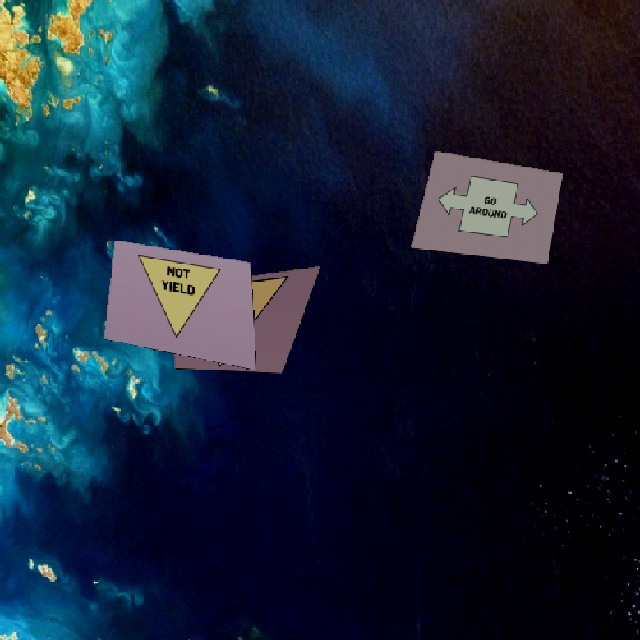GO_AROUND: (430, 169, 542, 244)
NOT_YIELD: (180, 275, 287, 368), (131, 251, 224, 345)
